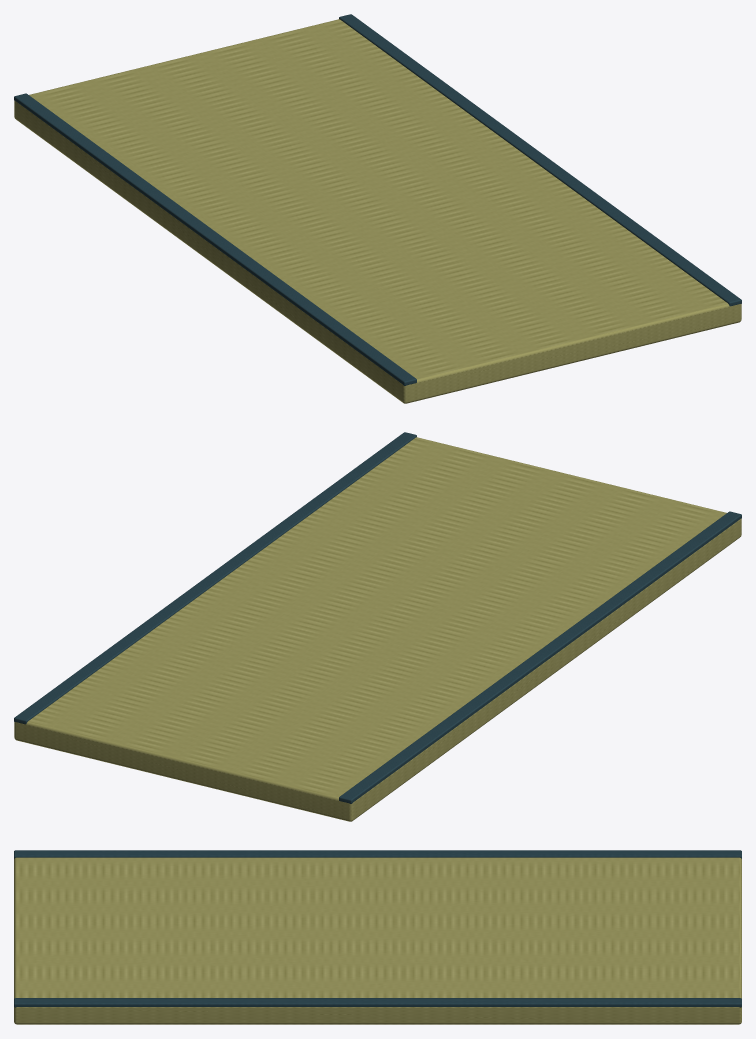
Rendered from tatami.glb.
3 renders of one model, top to bottom at view 1: azimuth 30°, elevation 25°; view 2: azimuth 150°, elevation 25°; view 3: azimuth 270°, elevation 25°, orthographic. The views are drawn at different scales.
Visible parts, largest first — view 1: tatami; view 2: tatami; view 3: tatami.
Boxes of the visible parts, x1,y1,x2,y2 form: tatami: (14, 14, 741, 403); tatami: (14, 432, 741, 821); tatami: (14, 850, 741, 1024).
Size of the model in its own units: 0.9 by 0.059 by 1.8.
Materials: 2 (2 with a texture image).
